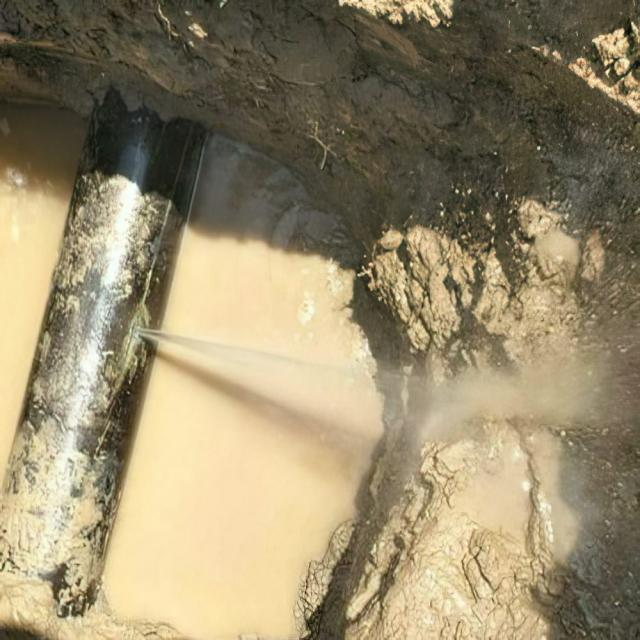leak: (140, 328, 384, 442)
